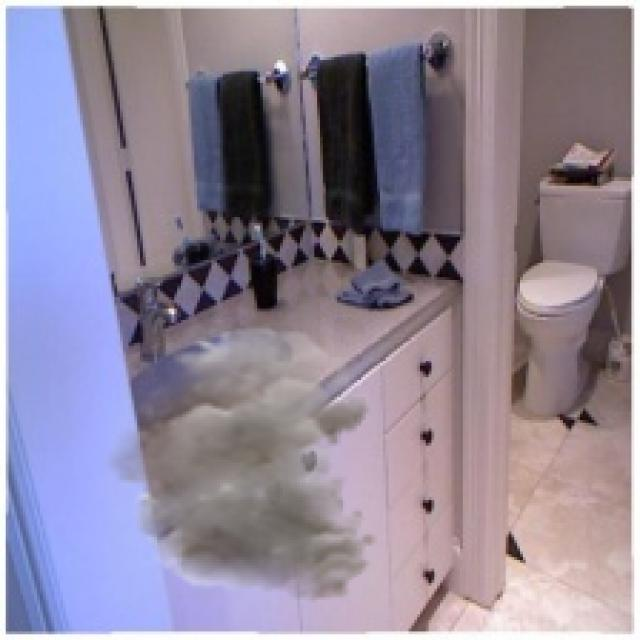smoke: (100, 326, 377, 603)
